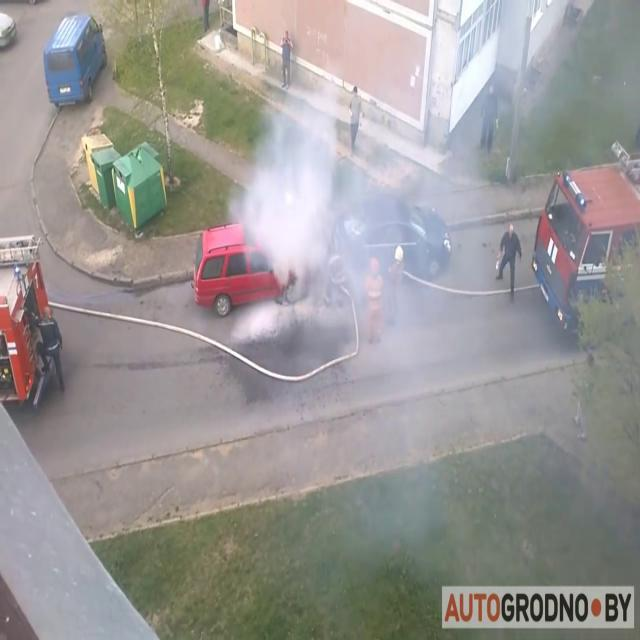Smoke: (237, 57, 381, 319)
